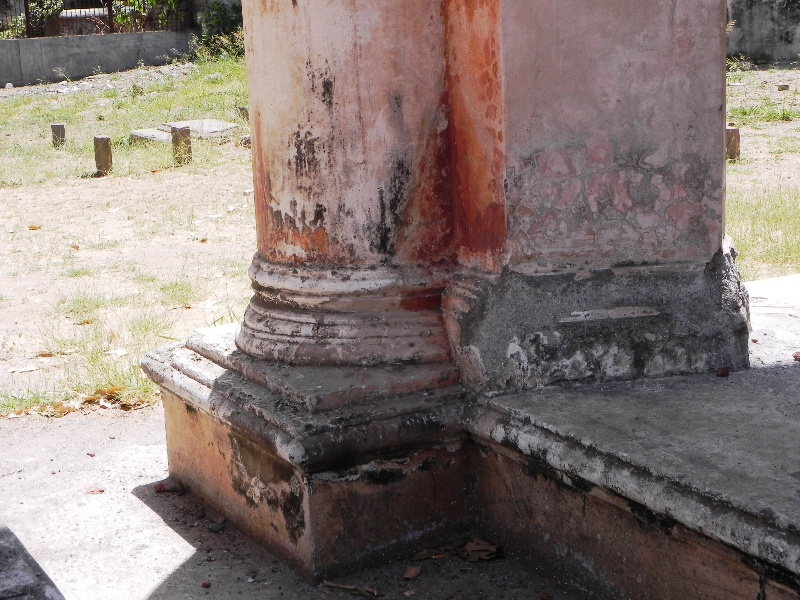Spalling: (466, 264, 751, 374)
